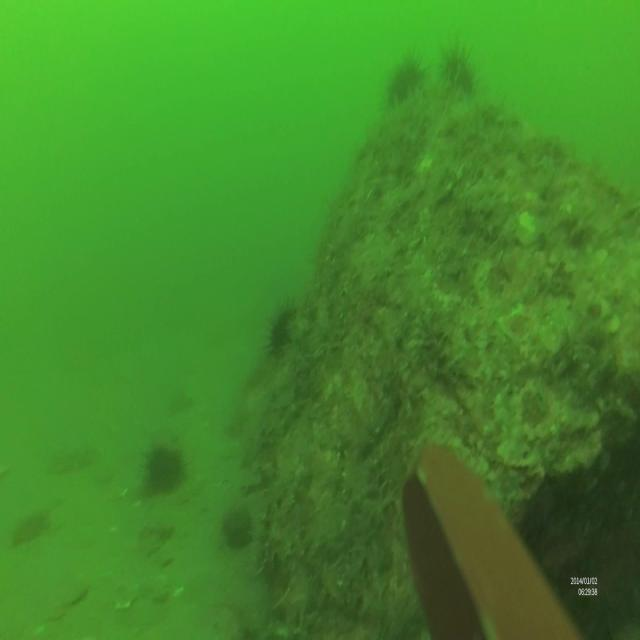echinus: (433, 32, 476, 105), (141, 440, 194, 499), (384, 52, 426, 112), (262, 303, 298, 357)
